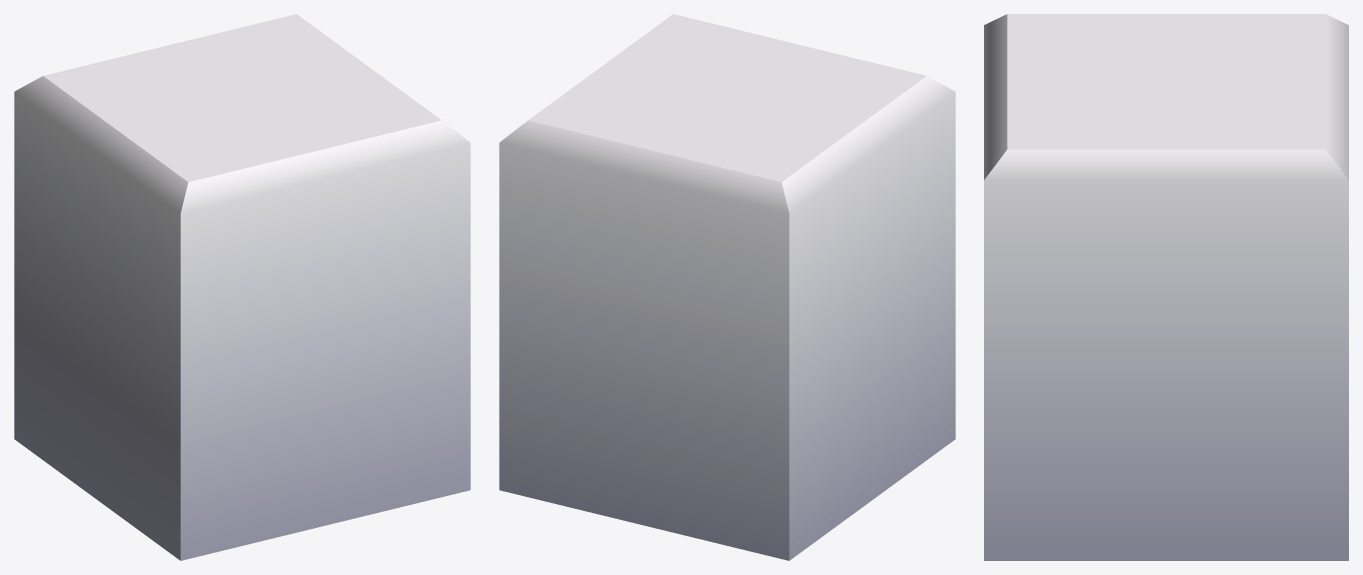
The model's file is kenney-brick-none-hq-brick-1-x-1.glb.
3 renders of one model, left to right at view 1: azimuth 30°, elevation 25°; view 2: azimuth 150°, elevation 25°; view 3: azimuth 270°, elevation 25°, orthographic. The views are drawn at different scales.
Parts seen in each view (by area): view 1: none-hq-brick-1x1; view 2: none-hq-brick-1x1; view 3: none-hq-brick-1x1.
Boxes of the visible parts, x1,y1,x2,y2 form: none-hq-brick-1x1: (14, 14, 470, 560); none-hq-brick-1x1: (499, 14, 955, 560); none-hq-brick-1x1: (984, 14, 1348, 560).
Bounding box in the file's own units: 0.0795 × 0.096 × 0.079.
1 material, 1 textured.
